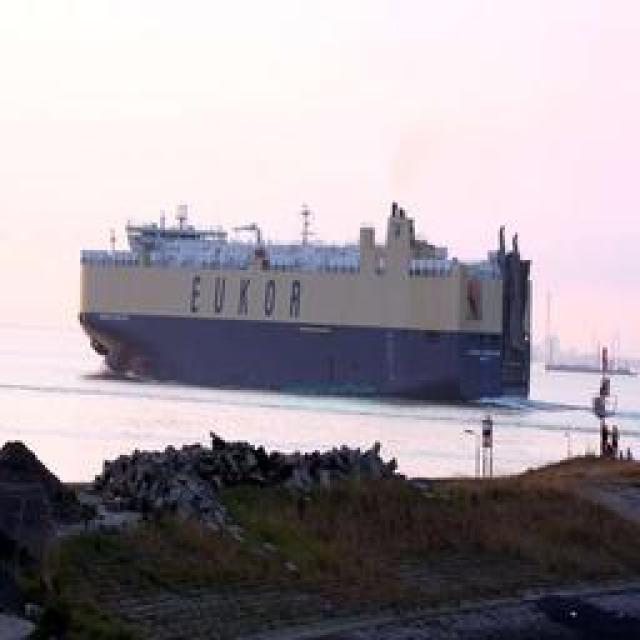CIV_Ship: (75, 196, 533, 389)
